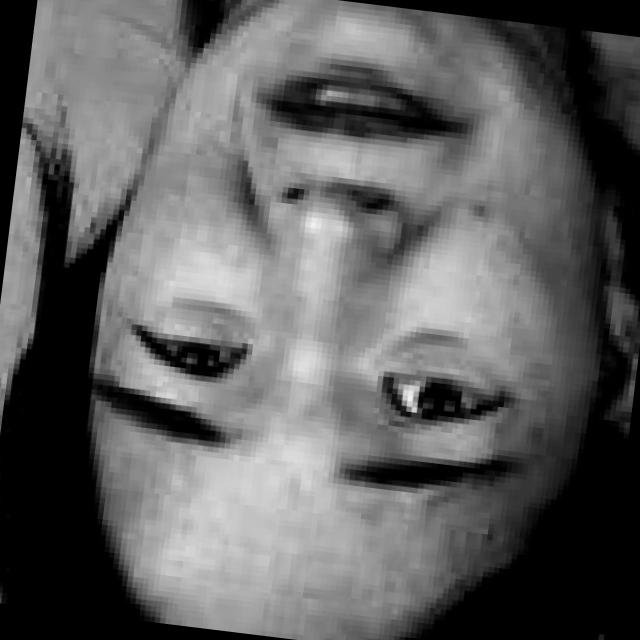disgust: (73, 0, 587, 601)
